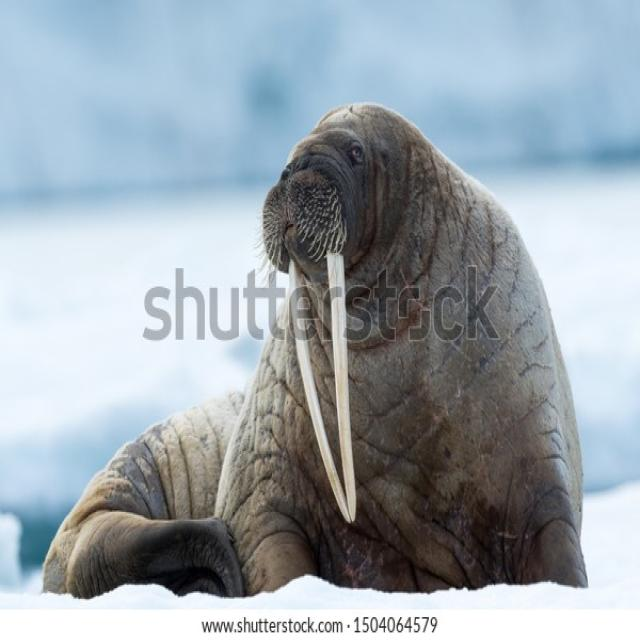walrus: (51, 71, 622, 618)
